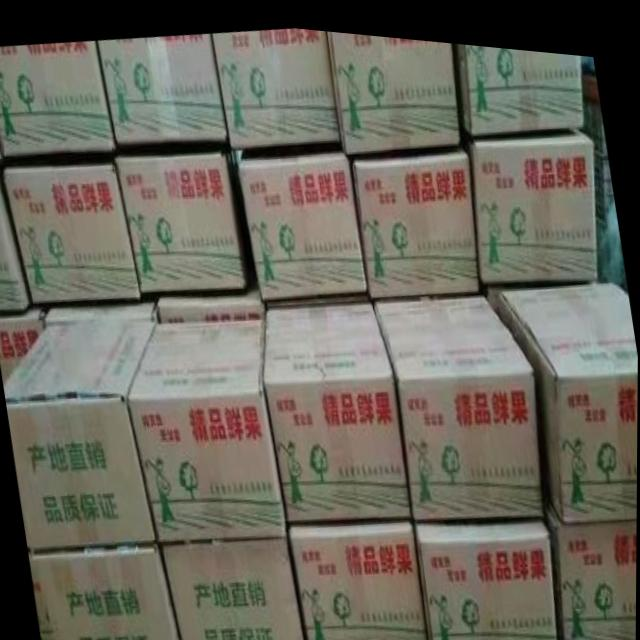box: (375, 285, 545, 513), (127, 314, 288, 541), (4, 317, 157, 552), (262, 294, 411, 519), (500, 271, 638, 512), (462, 118, 597, 274), (239, 135, 368, 295), (4, 160, 142, 305), (349, 138, 480, 290), (115, 147, 247, 292), (415, 511, 558, 640), (291, 512, 429, 640), (326, 25, 460, 150), (211, 22, 340, 144), (161, 535, 306, 640), (96, 29, 228, 143), (32, 541, 181, 640), (545, 483, 637, 640), (0, 39, 115, 157), (455, 34, 584, 124), (158, 276, 268, 318), (0, 180, 30, 312), (0, 307, 49, 385), (47, 298, 153, 324)
